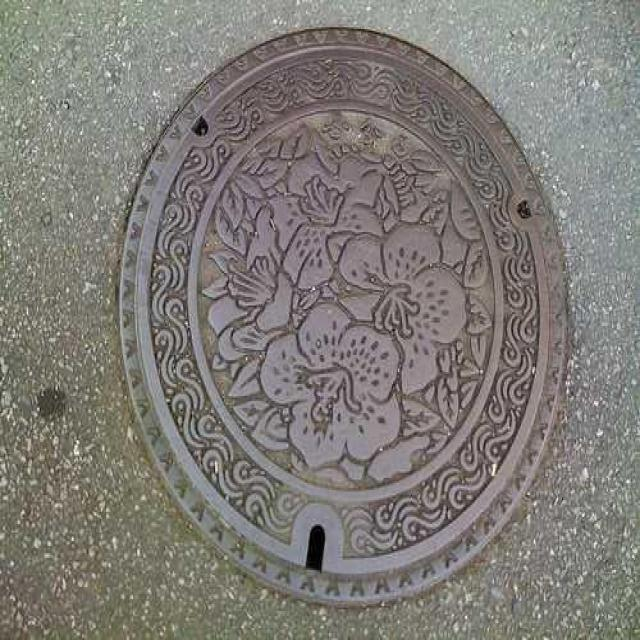manhole: (120, 28, 567, 602)
